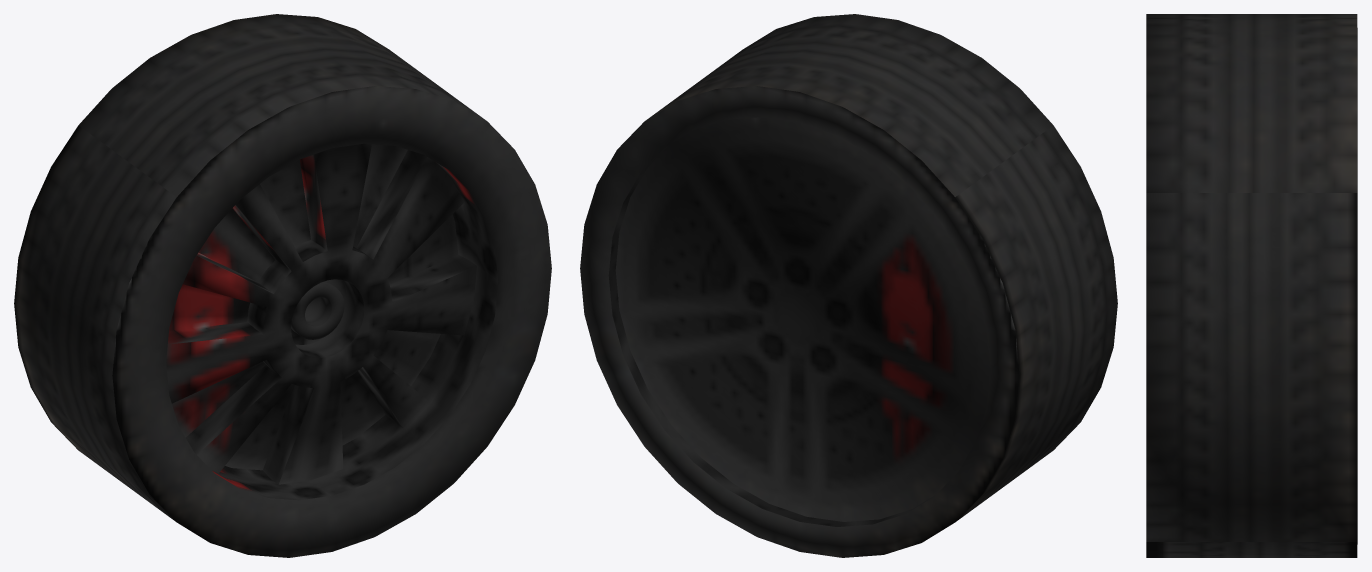
File: roue2.obj
The picture shows the model from 3 angles, left to right: view 1: azimuth 30°, elevation 25°; view 2: azimuth 150°, elevation 25°; view 3: azimuth 270°, elevation 25°; orthographic projection. The views are drawn at different scales.
Parts seen in each view (by area): view 1: roue_Cylinder.001; view 2: roue_Cylinder.001; view 3: roue_Cylinder.001.
Boxes of the visible parts, bbox=[...] form: roue_Cylinder.001: bbox=[14, 14, 551, 557]; roue_Cylinder.001: bbox=[580, 14, 1117, 557]; roue_Cylinder.001: bbox=[1146, 14, 1357, 557].
Bounding box in the file's own units: 14.18 × 14.18 × 5.51.
1 material, 1 textured.
